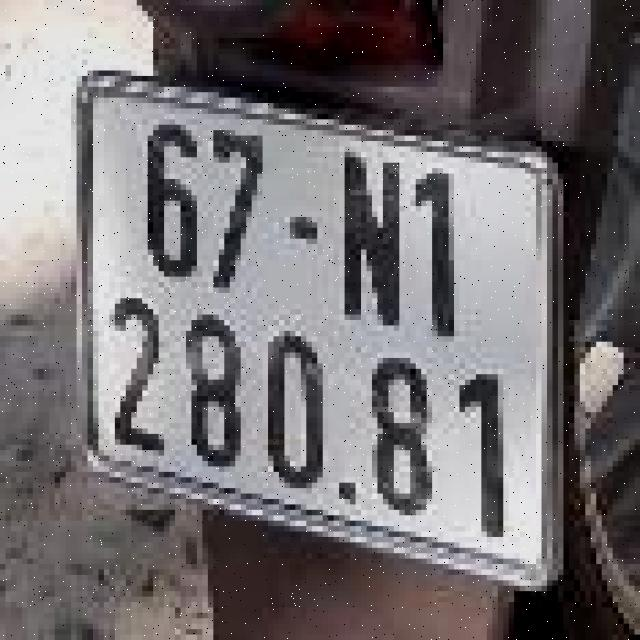0: (255, 320, 336, 499)
1: (454, 360, 525, 540), (410, 149, 476, 339)
2: (99, 290, 175, 464)
6: (129, 116, 205, 284)
7: (205, 120, 271, 298)
8: (358, 342, 446, 520), (172, 309, 249, 483)
N: (331, 144, 413, 339)
